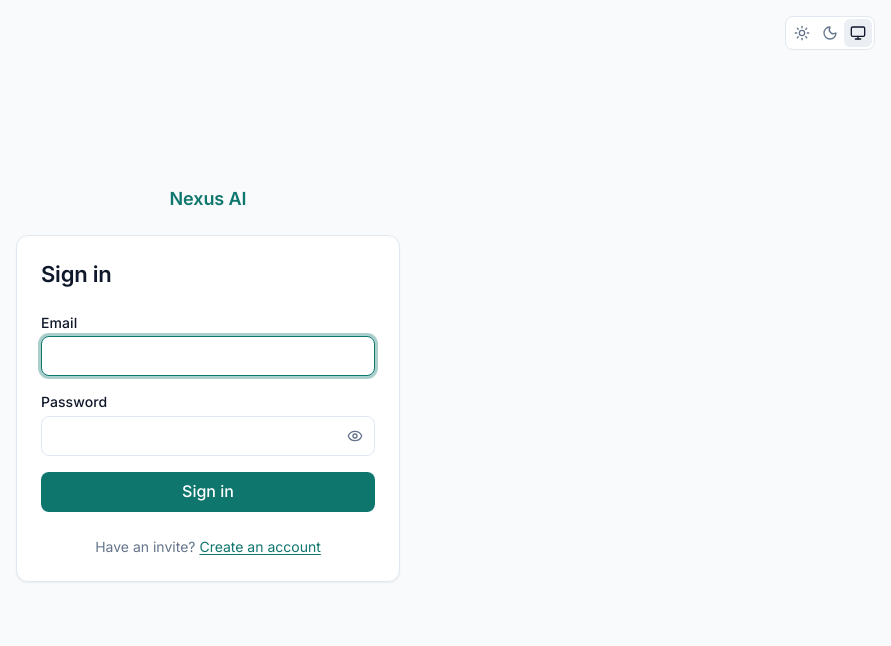
it: login page › says how long to wait when rate limited
In the field labelled "Email": (208, 356) [41,336,375,376], type "marco@example.com"
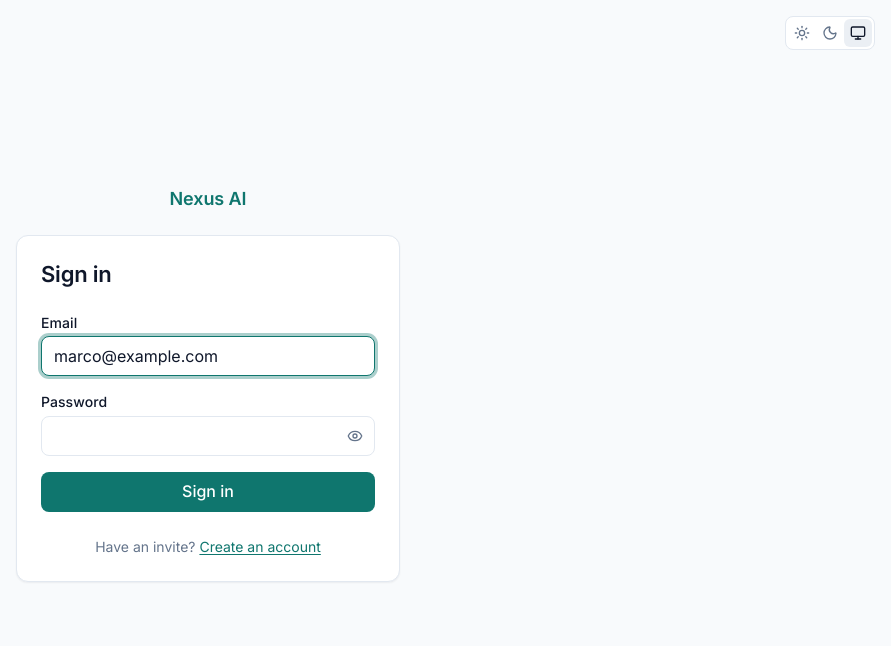
In the password field labelled "Password": (208, 436) [41,416,375,456], type "whatever-password"
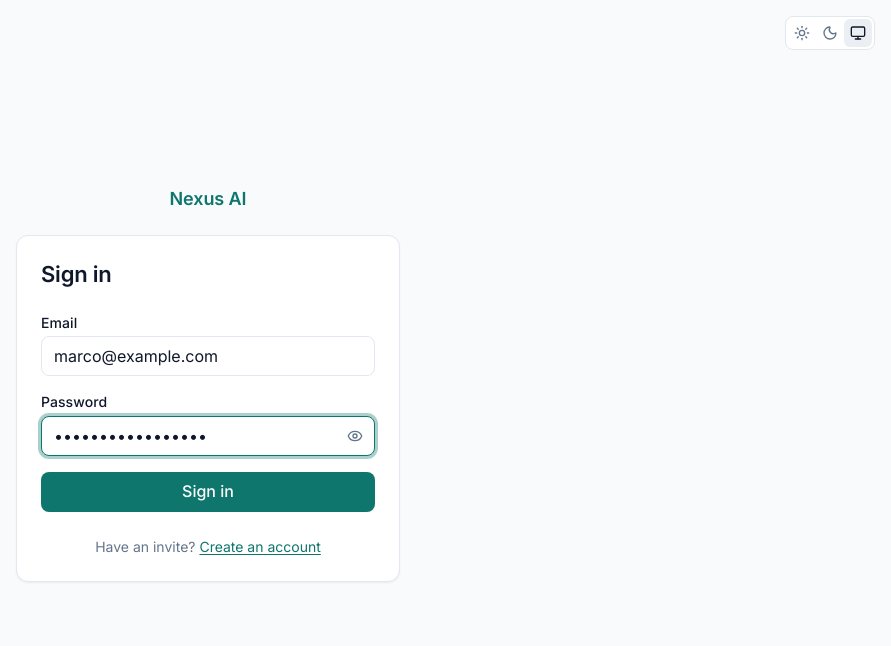
Click the button "Sign in": click(208, 492) [41,472,375,512]
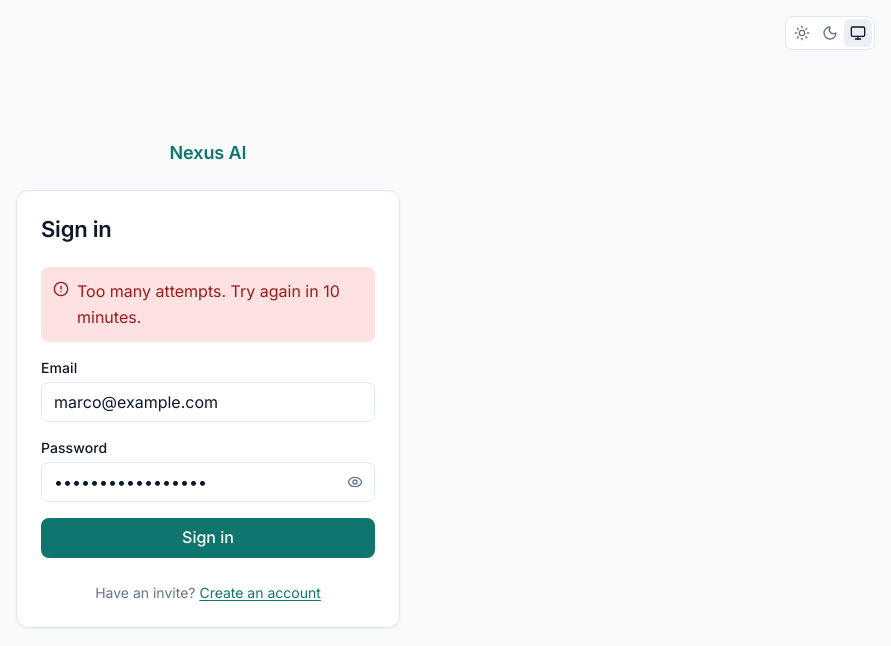
Result: the message shows "Try again in 10 minutes" at [77,281,340,327]
